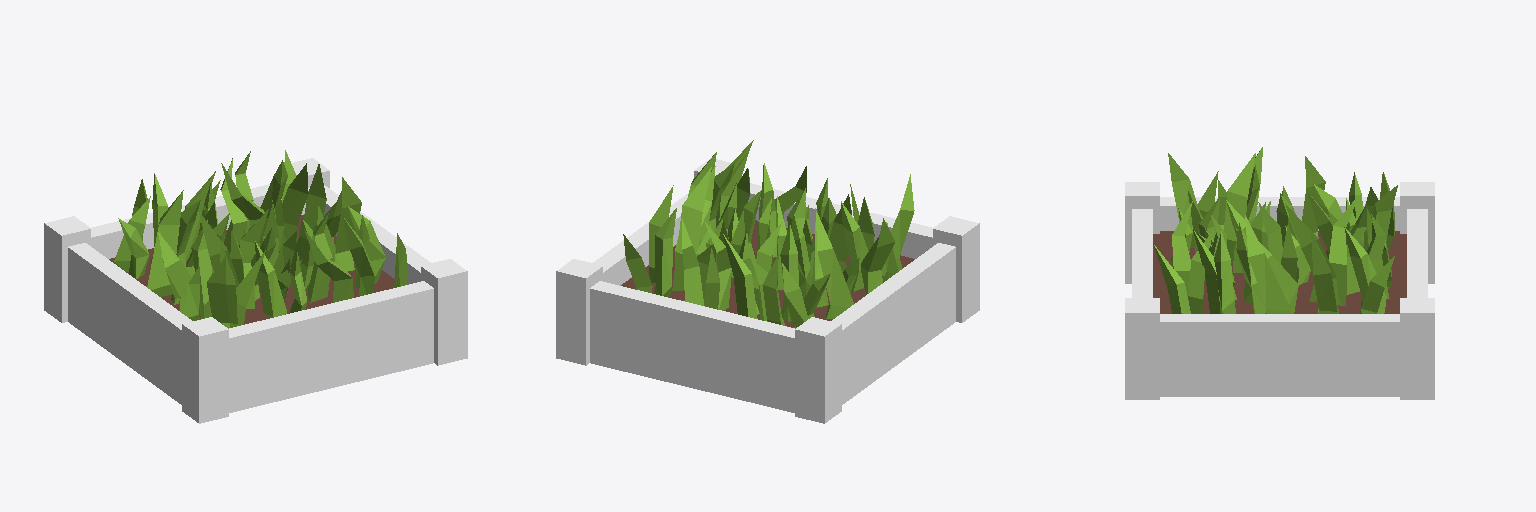
3 views of the same model, side by side, from view 1: azimuth 30°, elevation 25°; view 2: azimuth 150°, elevation 25°; view 3: azimuth 270°, elevation 25° (orthographic).
Parts seen in each view (by area): view 1: group[number redacted], group[number redacted], group[number redacted], group[number redacted], group[number redacted], group[number redacted], group[number redacted], group[number redacted], group[number redacted], group[number redacted], group[number redacted], group[number redacted] (+16 smaller); view 2: group[number redacted], group[number redacted], group[number redacted], group[number redacted], group[number redacted], group[number redacted], group[number redacted], group[number redacted], group[number redacted], group[number redacted], group[number redacted], group[number redacted] (+12 smaller); view 3: group[number redacted], group[number redacted], group[number redacted], group[number redacted], group[number redacted], group[number redacted], group[number redacted], group[number redacted], group[number redacted], group[number redacted], group[number redacted], group[number redacted] (+11 smaller).
Boxes of the visible parts, box(x1,y1,x2,y2) form: group[number redacted]: box(44, 158, 467, 423); group[number redacted]: box(147, 190, 183, 296); group[number redacted]: box(280, 163, 308, 250); group[number redacted]: box(255, 241, 286, 317); group[number redacted]: box(335, 177, 361, 271); group[number redacted]: box(304, 229, 353, 302); group[number redacted]: box(342, 216, 374, 296); group[number redacted]: box(191, 219, 211, 318); group[number redacted]: box(207, 256, 229, 328); group[number redacted]: box(307, 212, 332, 302); group[number redacted]: box(158, 232, 199, 313); group[number redacted]: box(118, 218, 149, 278); group[number redacted]: box(556, 158, 979, 423); group[number redacted]: box(815, 208, 853, 318); group[number redacted]: box(672, 167, 711, 290); group[number redacted]: box(654, 208, 676, 297); group[number redacted]: box(861, 218, 894, 294); group[number redacted]: box(723, 234, 757, 318); group[number redacted]: box(682, 219, 703, 305); group[number redacted]: box(841, 201, 868, 291); group[number redacted]: box(881, 174, 914, 275); group[number redacted]: box(705, 222, 731, 310); group[number redacted]: box(782, 263, 807, 328); group[number redacted]: box(763, 254, 784, 325); group[number redacted]: box(1125, 182, 1434, 399); group[number redacted]: box(1245, 215, 1291, 313); group[number redacted]: box(1329, 195, 1358, 305); group[number redacted]: box(1224, 153, 1255, 263); group[number redacted]: box(1311, 232, 1337, 313); group[number redacted]: box(1214, 231, 1235, 313); group[number redacted]: box(1344, 227, 1386, 313); group[number redacted]: box(1153, 244, 1190, 313); group[number redacted]: box(1172, 201, 1192, 300); group[number redacted]: box(1168, 153, 1196, 247); group[number redacted]: box(1188, 230, 1213, 313); group[number redacted]: box(1285, 204, 1338, 313).
Size of the model in its own units: 0.45 by 0.2519 by 0.45.